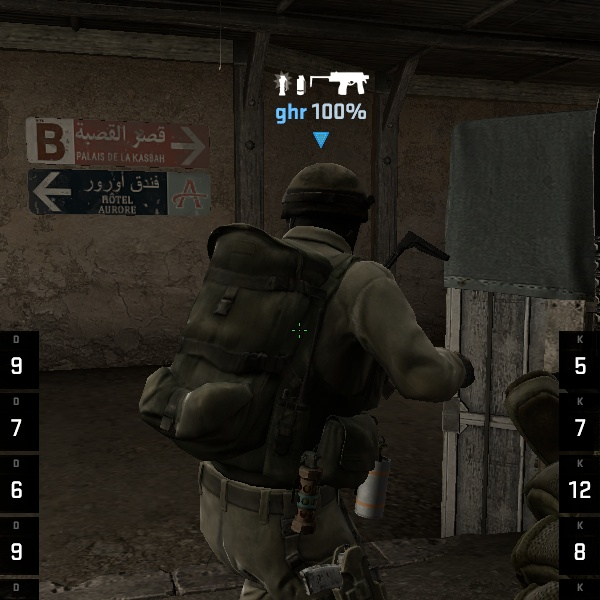ct_body: (161, 144, 445, 600)
ct_head: (262, 146, 383, 281)
